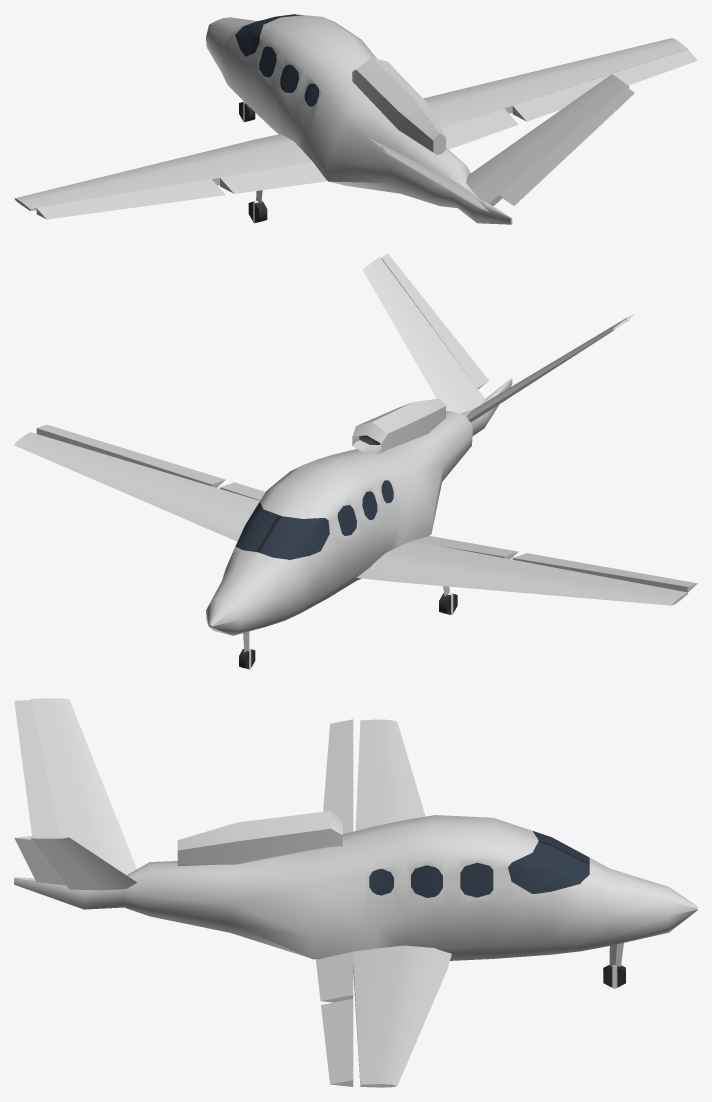
Rendered from Cirrus_Vision_Jet_LOD2.glb.
The picture shows the model from 3 angles, top to bottom: view 1: azimuth 30°, elevation 25°; view 2: azimuth 150°, elevation 25°; view 3: azimuth 270°, elevation 25°; orthographic projection. The views are drawn at different scales.
Parts seen in each view (by area): view 1: Fuselage, Wing_Left, Wing_Right, VTail_Right, Nacelle, Aileron_Left, Aileron_Right, Ruddervator_Right, Flap_Left, Flap_Right, Ruddervator_Left, VTail_Left (+1 smaller); view 2: Fuselage, Wing_Left, Wing_Right, VTail_Right, Nacelle, Aileron_Right, Ruddervator_Right, Aileron_Left, VTail_Left, Flap_Left; view 3: Fuselage, Wing_Right, VTail_Left, Nacelle, Wing_Left, Ruddervator_Left, VTail_Right, Aileron_Left, Aileron_Right, Flap_Right, Ruddervator_Right.
Part boxes in pixels (x1=…): Fuselage: x1=206, y1=14, x2=512, y2=224; Wing_Left: x1=14, y1=134, x2=312, y2=210; Wing_Right: x1=423, y1=38, x2=687, y2=128; VTail_Right: x1=466, y1=74, x2=629, y2=206; Nacelle: x1=352, y1=57, x2=445, y2=154; Aileron_Left: x1=36, y1=179, x2=225, y2=219; Aileron_Right: x1=512, y1=49, x2=697, y2=121; Ruddervator_Right: x1=499, y1=87, x2=634, y2=205; Flap_Left: x1=220, y1=162, x2=327, y2=193; Flap_Right: x1=441, y1=108, x2=518, y2=149; Ruddervator_Left: x1=379, y1=147, x2=488, y2=211; VTail_Left: x1=362, y1=135, x2=485, y2=209; Fuselage: x1=206, y1=378, x2=512, y2=635; Wing_Left: x1=356, y1=541, x2=687, y2=605; Wing_Right: x1=14, y1=432, x2=259, y2=541; VTail_Right: x1=362, y1=257, x2=485, y2=413; Nacelle: x1=352, y1=398, x2=445, y2=453; Aileron_Right: x1=36, y1=424, x2=225, y2=487; Ruddervator_Right: x1=381, y1=253, x2=488, y2=388; Aileron_Left: x1=512, y1=553, x2=697, y2=592; VTail_Left: x1=466, y1=317, x2=629, y2=422; Flap_Left: x1=411, y1=536, x2=518, y2=559; Fuselage: x1=14, y1=815, x2=697, y2=960; Wing_Right: x1=353, y1=945, x2=451, y2=1087; VTail_Left: x1=30, y1=698, x2=136, y2=875; Nacelle: x1=177, y1=811, x2=342, y2=866; Wing_Left: x1=355, y1=719, x2=425, y2=830; Ruddervator_Left: x1=14, y1=700, x2=59, y2=836; VTail_Right: x1=30, y1=836, x2=137, y2=890; Aileron_Left: x1=323, y1=719, x2=353, y2=833; Aileron_Right: x1=321, y1=999, x2=353, y2=1086; Flap_Right: x1=316, y1=951, x2=353, y2=1002; Ruddervator_Right: x1=14, y1=836, x2=66, y2=885.
Size of the model in its own units: 11.8 by 3.32 by 9.36.
6 materials, 1 textured.
